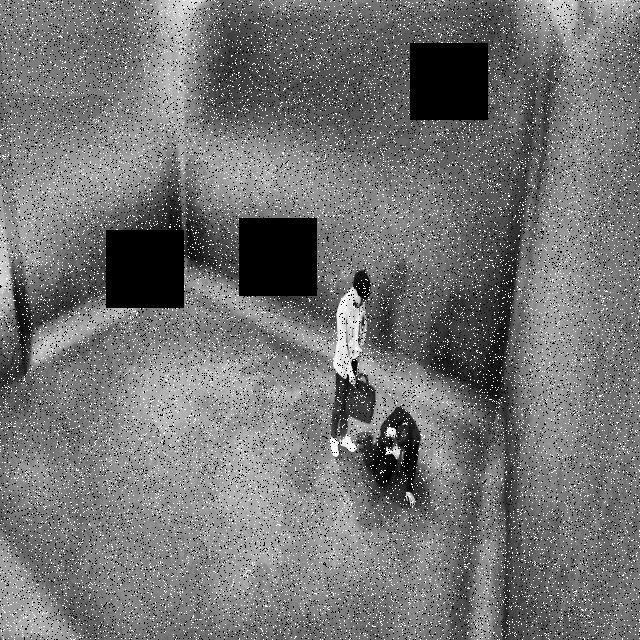assult: (307, 252, 430, 506)
